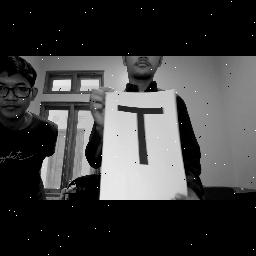t: (114, 101, 168, 167)
